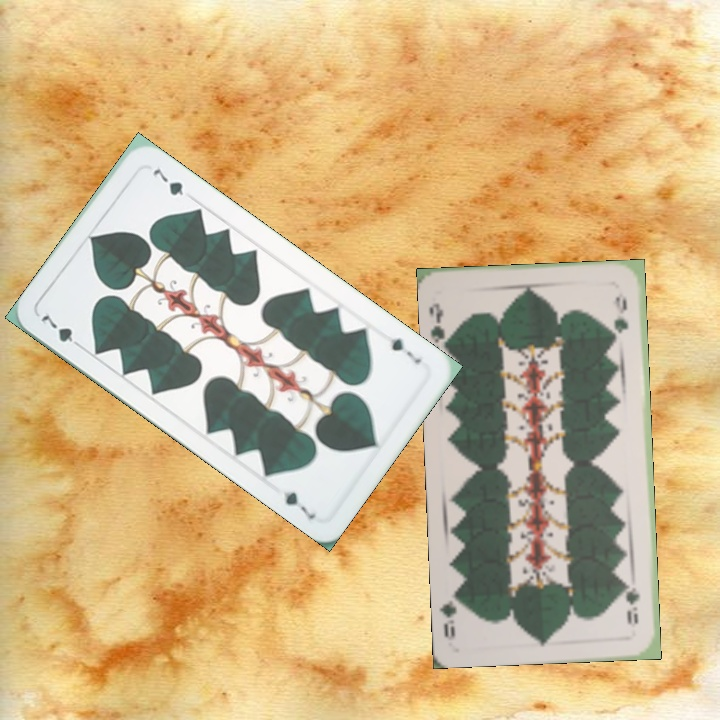G7: (37, 310, 86, 352), (381, 330, 424, 366)
G9: (425, 299, 453, 351), (622, 576, 642, 627)
